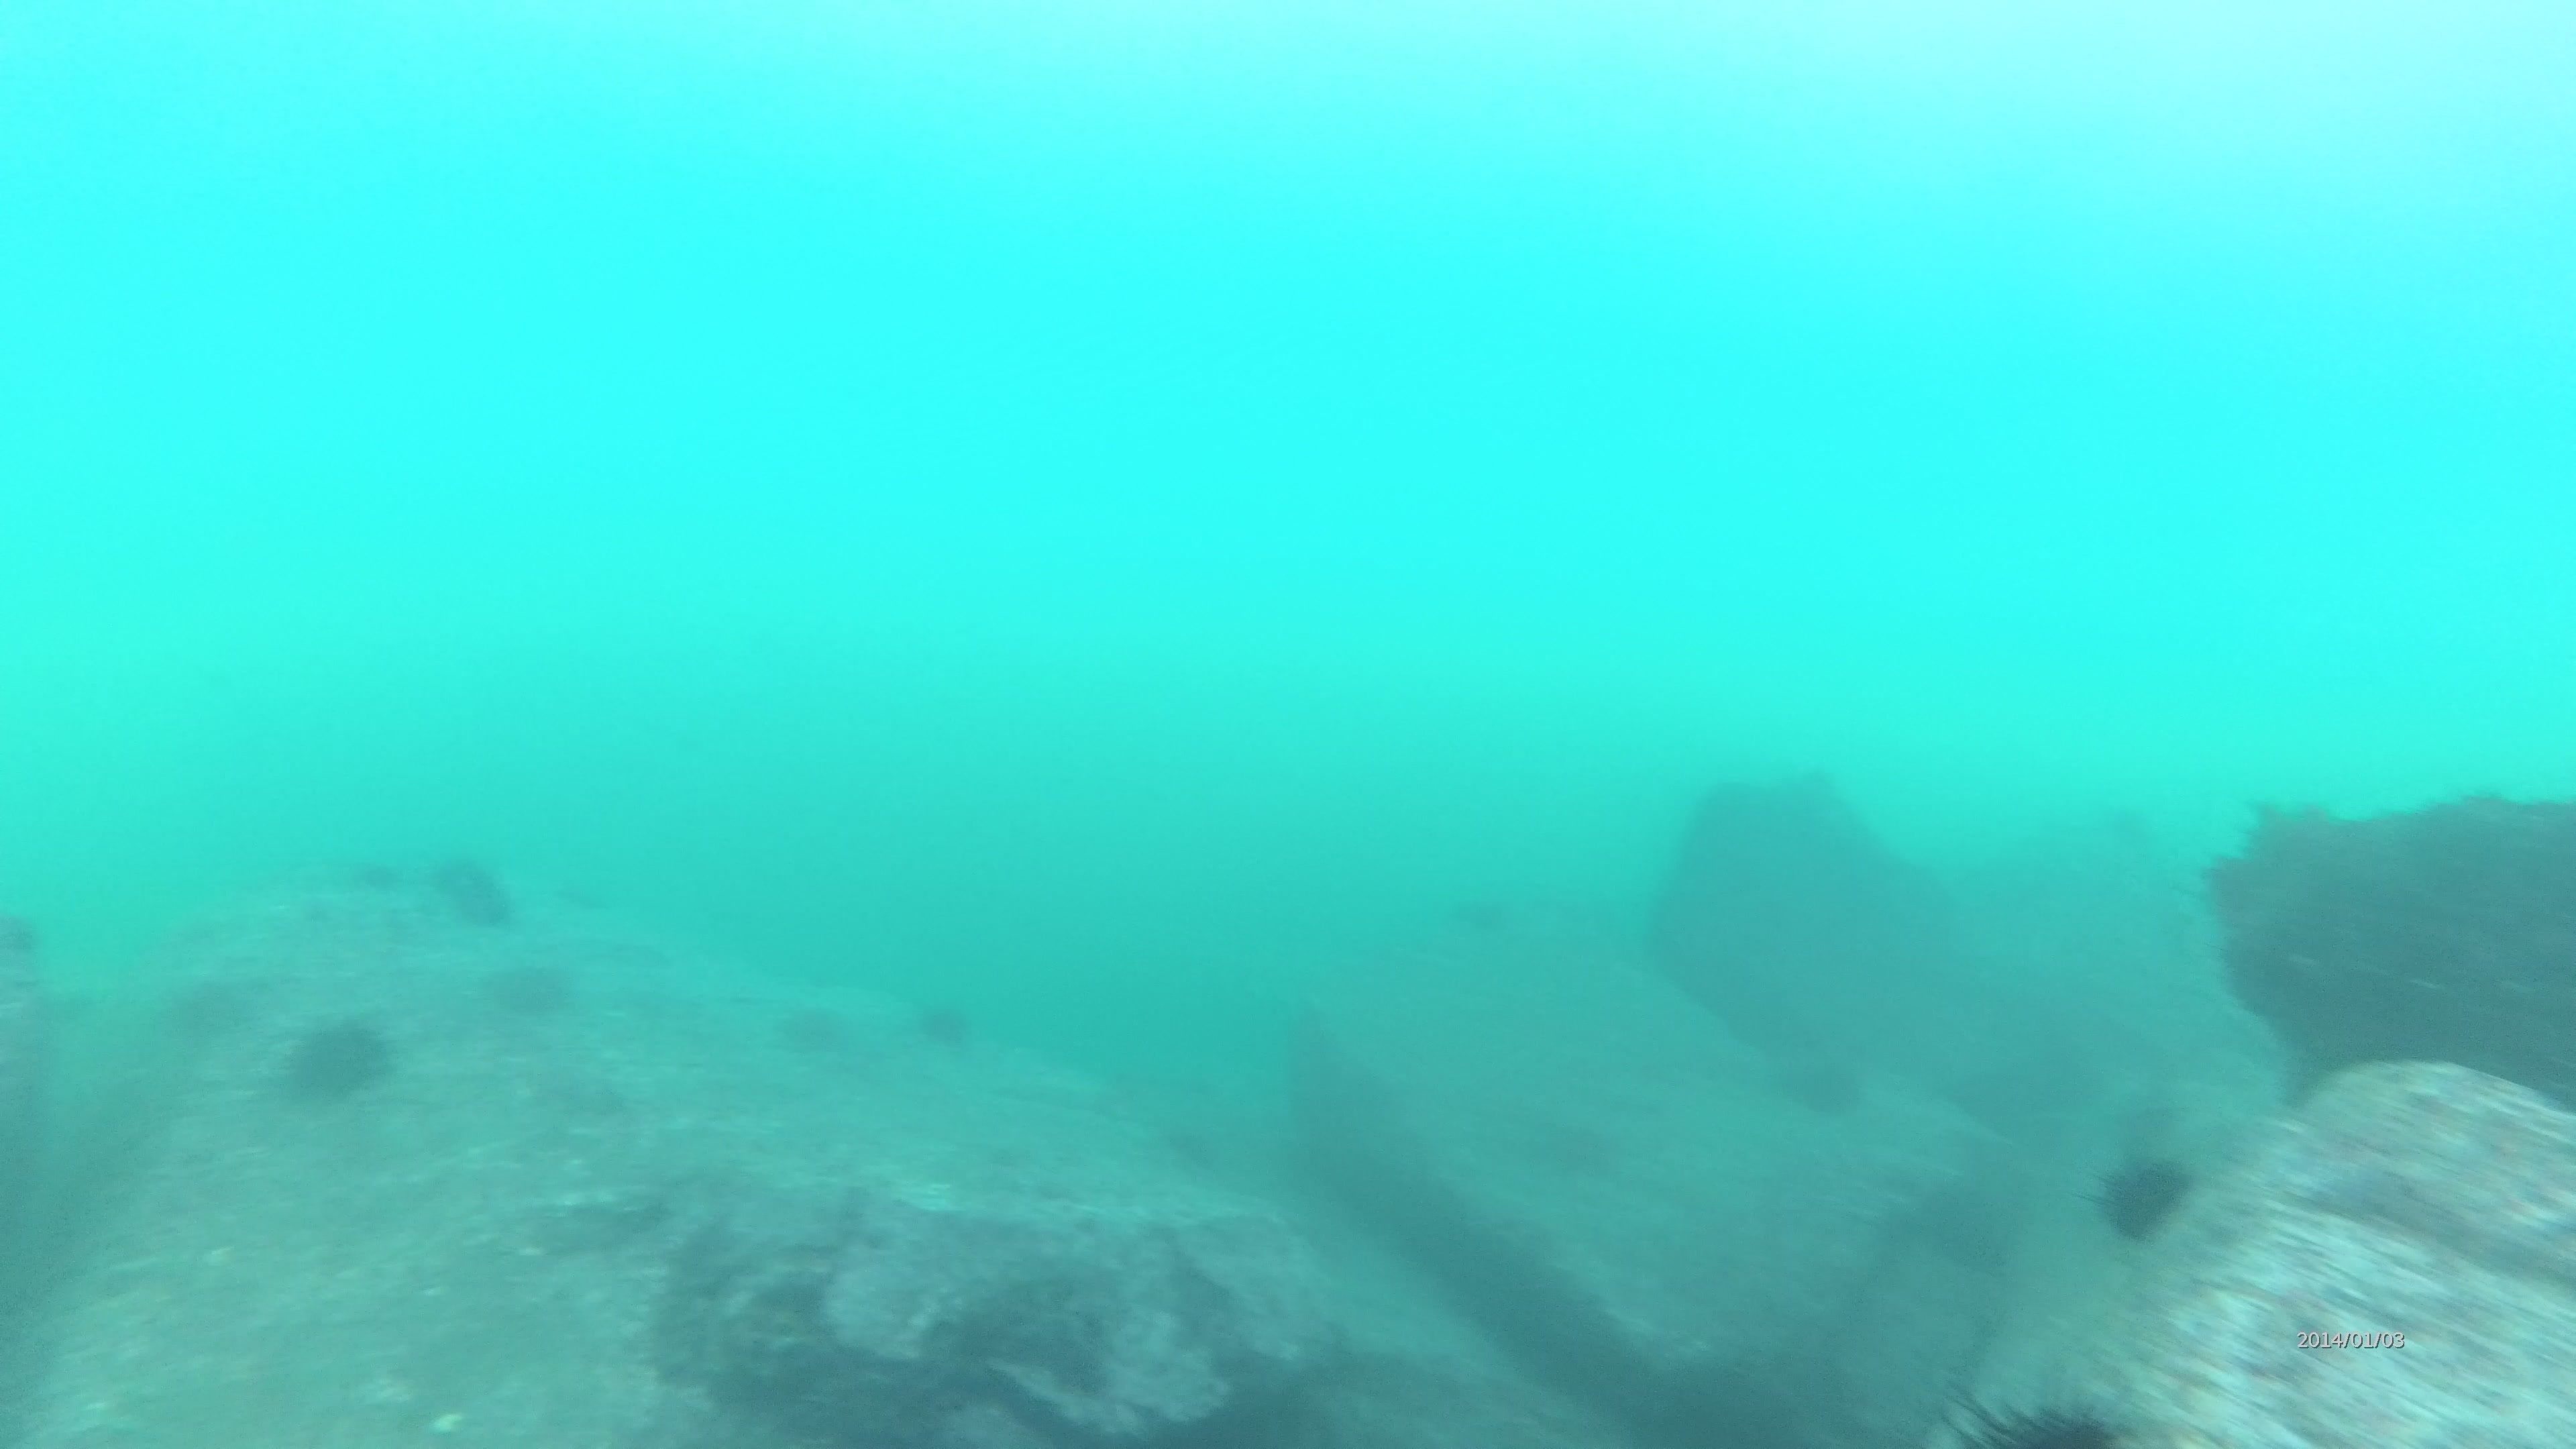echinus: (274, 1007, 400, 1111), (1950, 1378, 2143, 1444), (2089, 1143, 2199, 1246), (428, 844, 522, 934), (481, 952, 580, 1030), (1776, 1044, 1870, 1123), (911, 991, 980, 1053)
